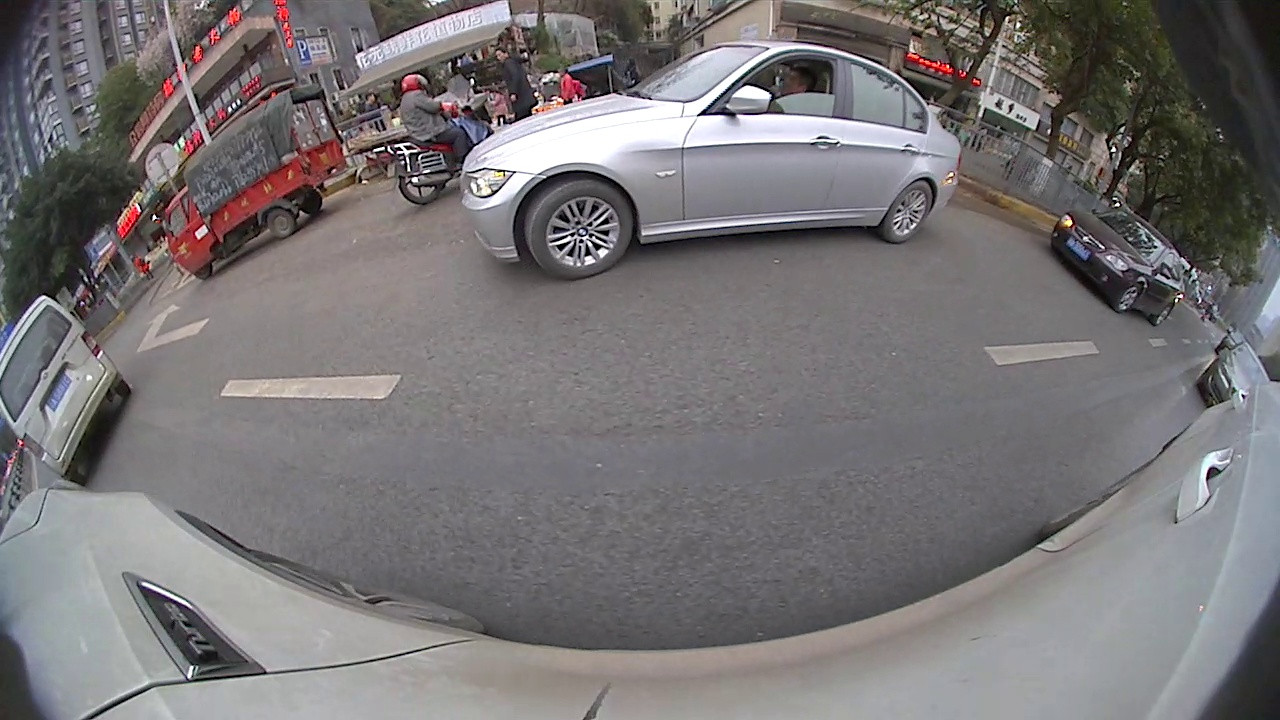car: (457, 38, 964, 281), (2, 292, 133, 487), (1050, 201, 1189, 330), (1193, 337, 1272, 414)
front: (522, 179, 639, 278), (1119, 276, 1144, 314)
person: (491, 38, 541, 125)
rear: (880, 180, 939, 242), (393, 162, 447, 203), (261, 210, 304, 239), (1156, 296, 1182, 329)
rider: (156, 82, 351, 283), (381, 66, 500, 211)
